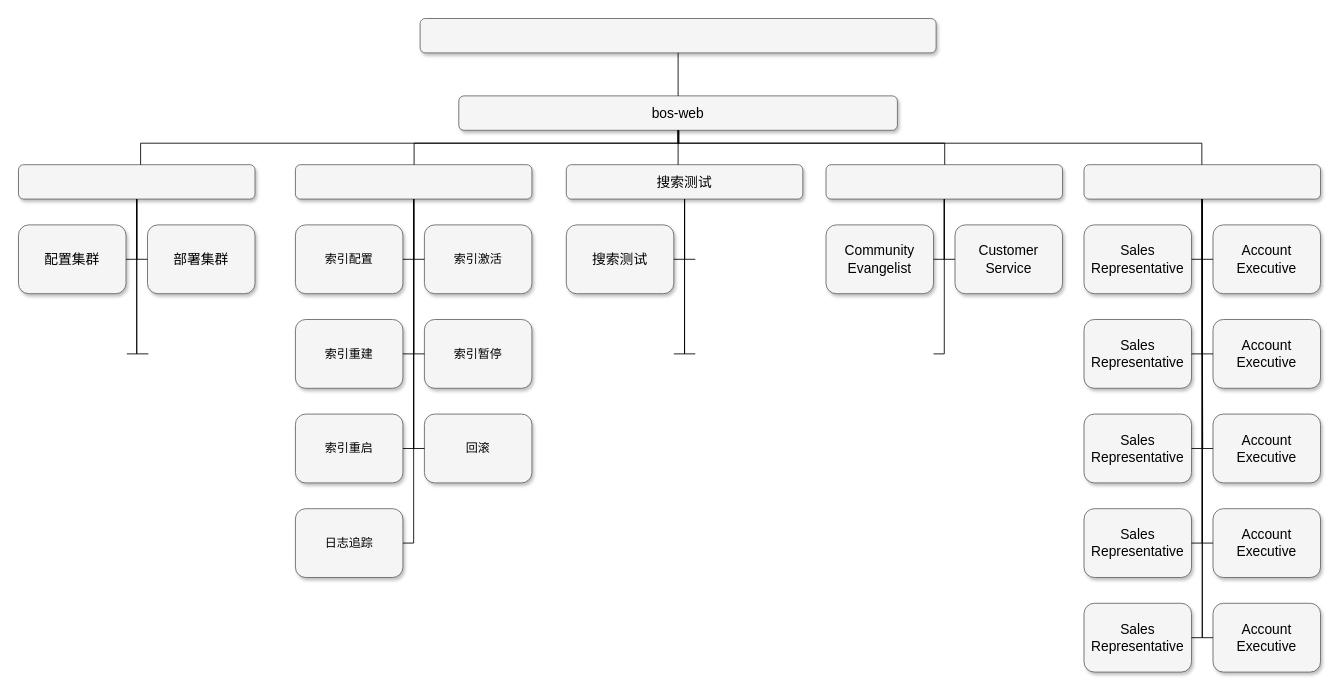
Some shapes in this 1341 by 693 pixel diagram are drawn without their labels. The centre of each missing label's shape, as x and y in pixels:
bos: the point at 678,36
应用管理: the point at 414,182
辅助功能: the point at 1203,182
集群监控: the point at 945,182
集群管理: the point at 137,182
